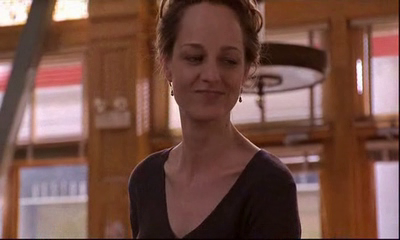face: (177, 31, 244, 118)
mcu: (1, 1, 400, 240)
person: (128, 1, 302, 237)
